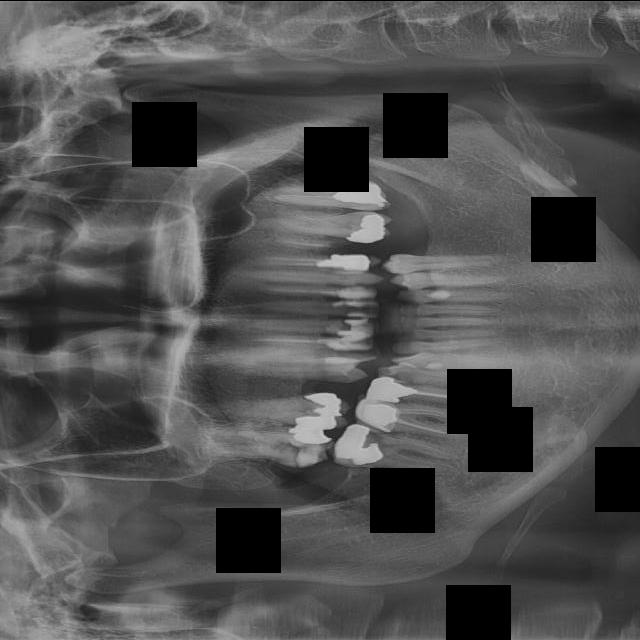71: (413, 389, 458, 399)
72: (272, 235, 348, 252)
74: (395, 417, 460, 436), (397, 406, 464, 419), (265, 283, 334, 295), (399, 408, 462, 421), (265, 256, 321, 262), (290, 186, 335, 193), (249, 339, 315, 343), (281, 194, 332, 198), (257, 262, 314, 265), (453, 396, 477, 402), (307, 198, 338, 201)
NucleOSS Implant: (334, 420, 389, 470), (346, 208, 392, 254), (295, 392, 342, 429), (332, 176, 387, 206), (367, 373, 418, 404), (314, 253, 369, 270), (291, 427, 331, 444)
Sterngold Implant: (283, 437, 324, 470), (361, 426, 385, 446), (386, 366, 414, 383), (319, 370, 351, 380), (351, 279, 370, 284)
Straumann Implant: (334, 316, 373, 340), (334, 284, 375, 300), (327, 338, 372, 349), (426, 289, 449, 299), (424, 361, 443, 370), (336, 301, 372, 305), (345, 311, 370, 316)
Zimmer Implant: (357, 394, 399, 433)
